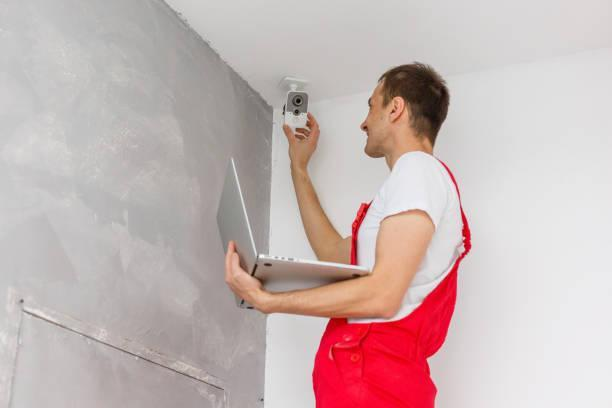camera: (279, 83, 315, 132)
